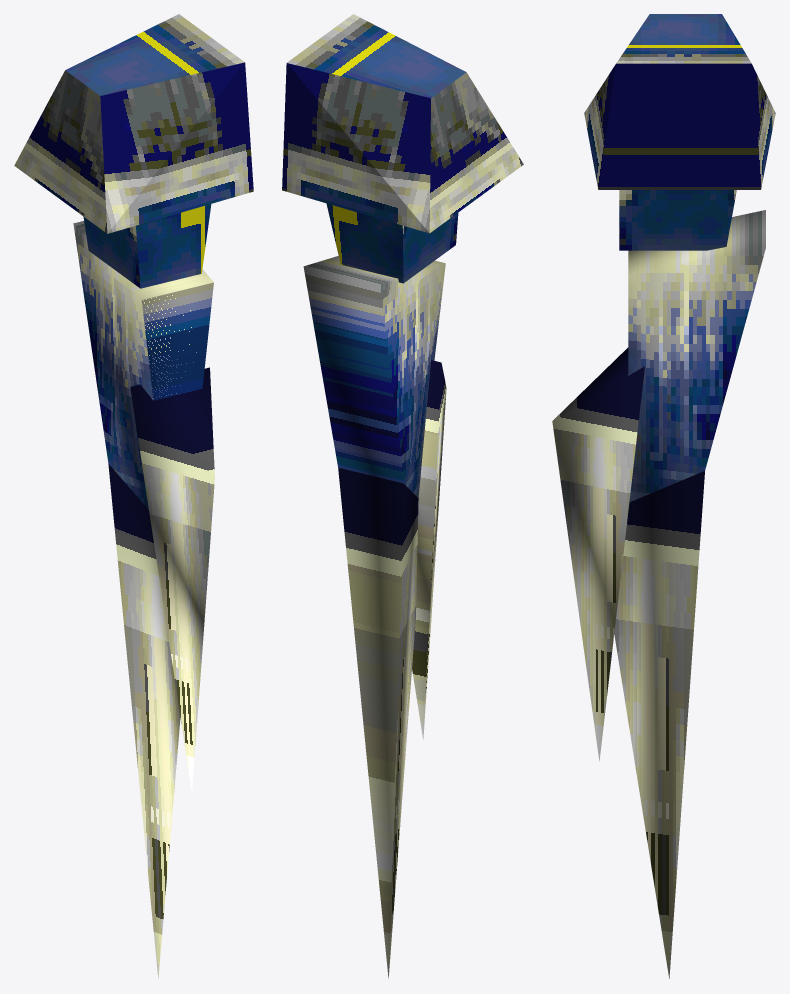
The model's file is LeftSniperLaserArmY_Skel.glb.
3 views of the same model, side by side, from view 1: azimuth 30°, elevation 25°; view 2: azimuth 150°, elevation 25°; view 3: azimuth 270°, elevation 25° (orthographic). The views are drawn at different scales.
Parts seen in each view (by area): view 1: LeftSniperLaserArmY_Skel_part01, LeftSniperLaserArmY_Skel_part00; view 2: LeftSniperLaserArmY_Skel_part01, LeftSniperLaserArmY_Skel_part00; view 3: LeftSniperLaserArmY_Skel_part01, LeftSniperLaserArmY_Skel_part00.
Part boxes in pixels (x1,y1,x2,y2): LeftSniperLaserArmY_Skel_part01: (73,221,214,977); LeftSniperLaserArmY_Skel_part00: (14,14,253,288); LeftSniperLaserArmY_Skel_part01: (303,256,446,978); LeftSniperLaserArmY_Skel_part00: (282,14,523,283); LeftSniperLaserArmY_Skel_part01: (552,210,765,978); LeftSniperLaserArmY_Skel_part00: (584,14,775,250).
Size of the model in its own units: 4.94 by 28.39 by 6.07.
5 materials, 5 textured.
